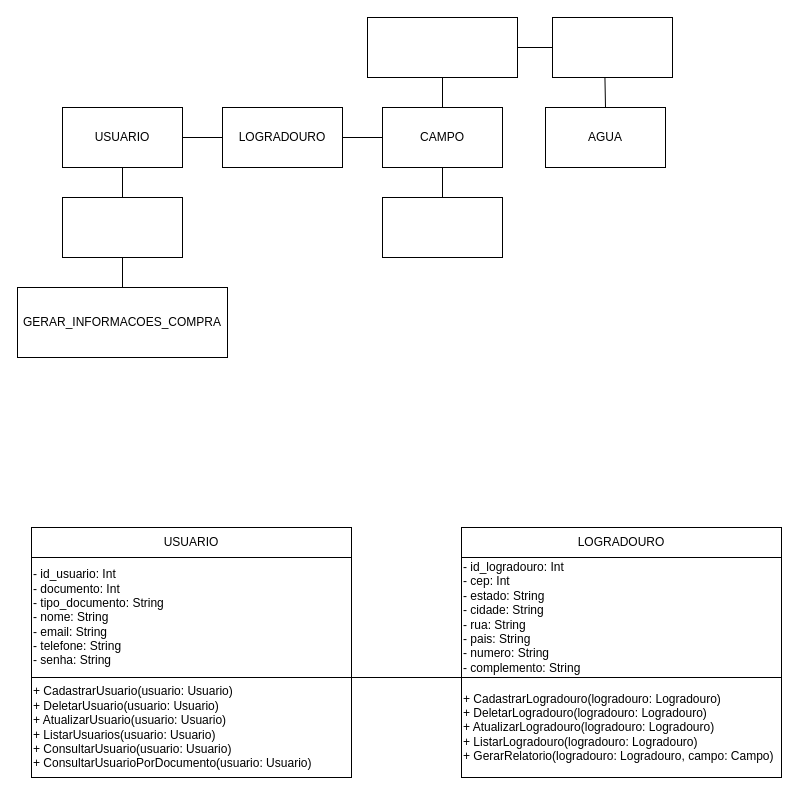
The diagram is 799 pixels wide and 795 high, and some of its shapes have lost their labels. Here are the shapes that lost their labels. From the top down, the box of each, then its label:
(366, 16, 518, 78): CAMPO_COMPONENTE
(552, 16, 672, 78): COMPONENTE
(62, 196, 182, 258): VENDER
(382, 196, 502, 258): ALIMENTO
